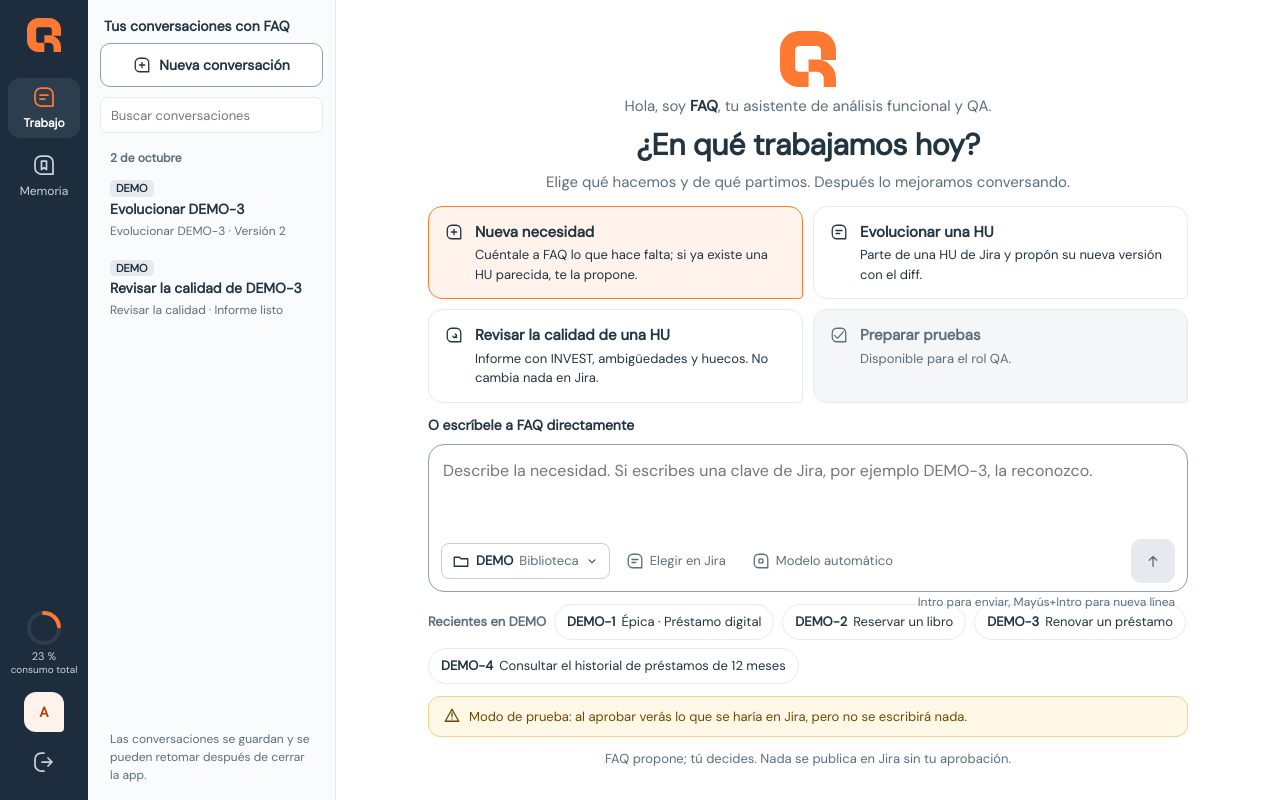
Scenario: Origen · fuentes con su carga y su «Reintentar» (auditoría) › si fallan las fuentes, «Reintentar» las vuelve a pedir y aparecen
Expected: the button with aria-label "Proyecto de Jira: DEMO" is shown, [441,543,610,579]
Type "Renovar un préstamo desde la app" into the text box.
click(808, 495); type("Renovar un préstamo desde la app")  # box [441,457,1175,533]
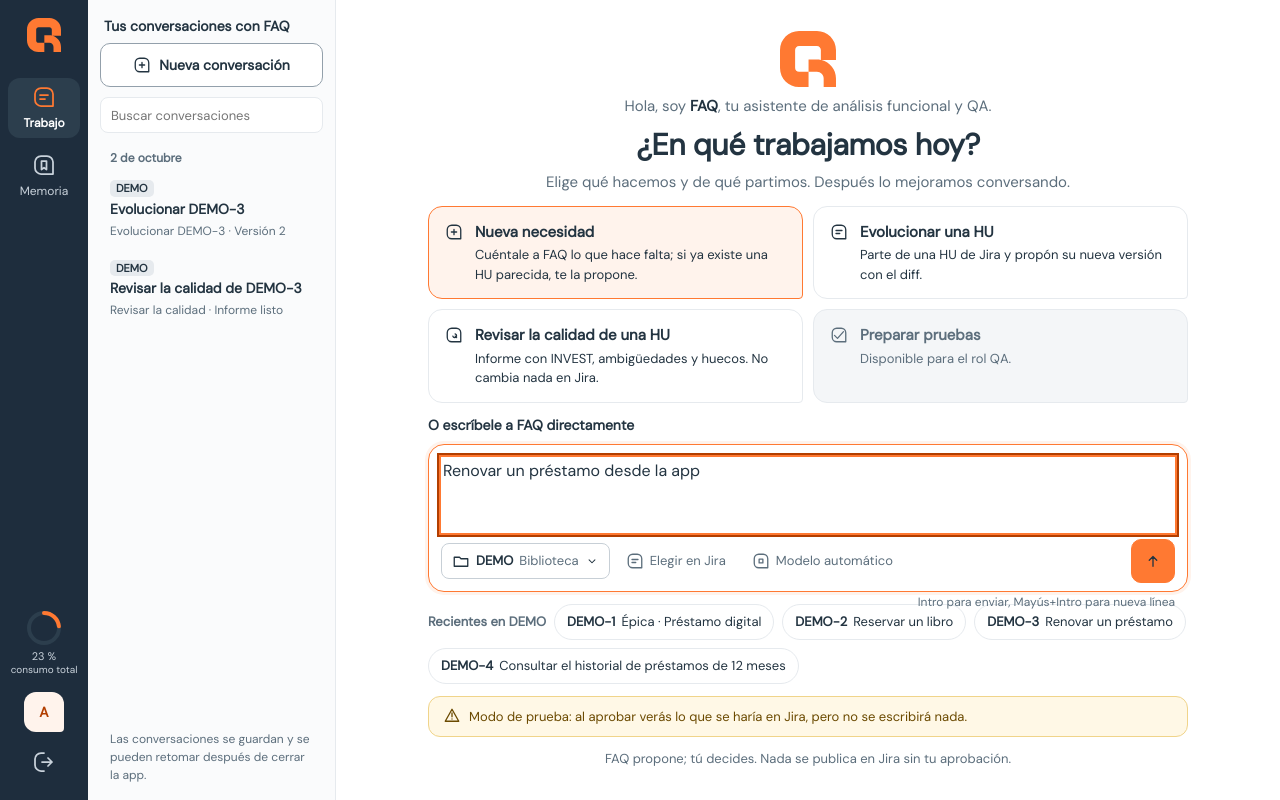
Click the button named "Continuar".
click(1153, 561)  # box [1131,539,1175,583]
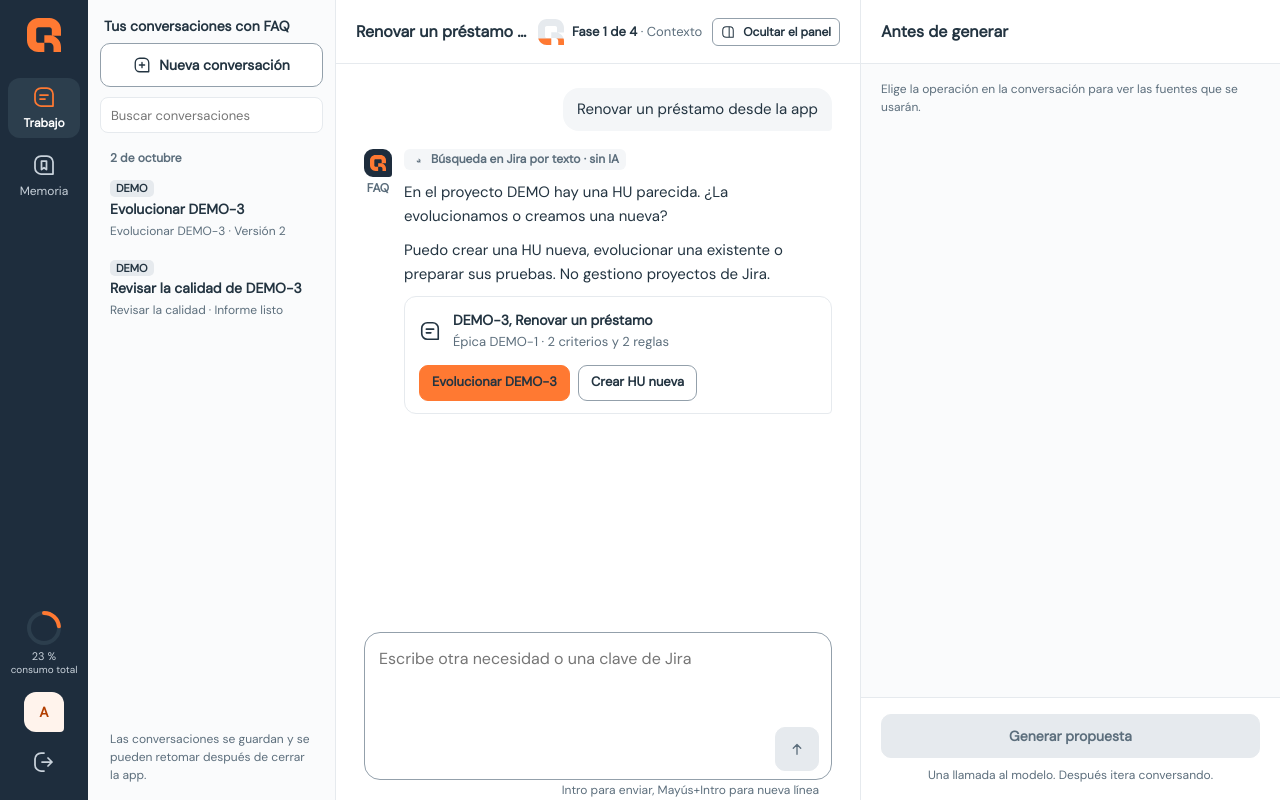
Click the button "Evolucionar DEMO-3".
click(494, 383)  # box [419,365,570,401]
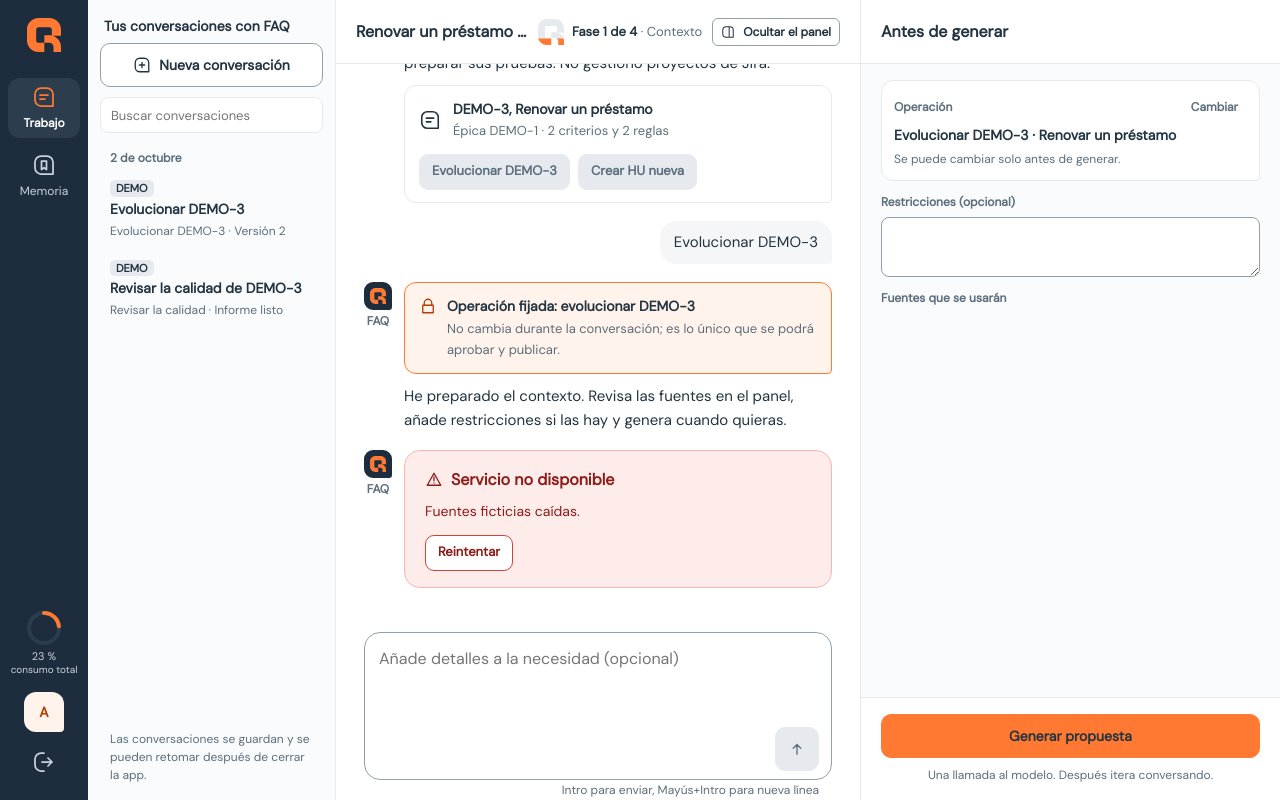
Expected: the checkbox labelled "HU de origen" is not shown
Expected: the message shows "Fuentes ficticias caídas.", [425,502,580,520]
Click the button "Reintentar".
click(469, 553)  # box [425,535,513,571]
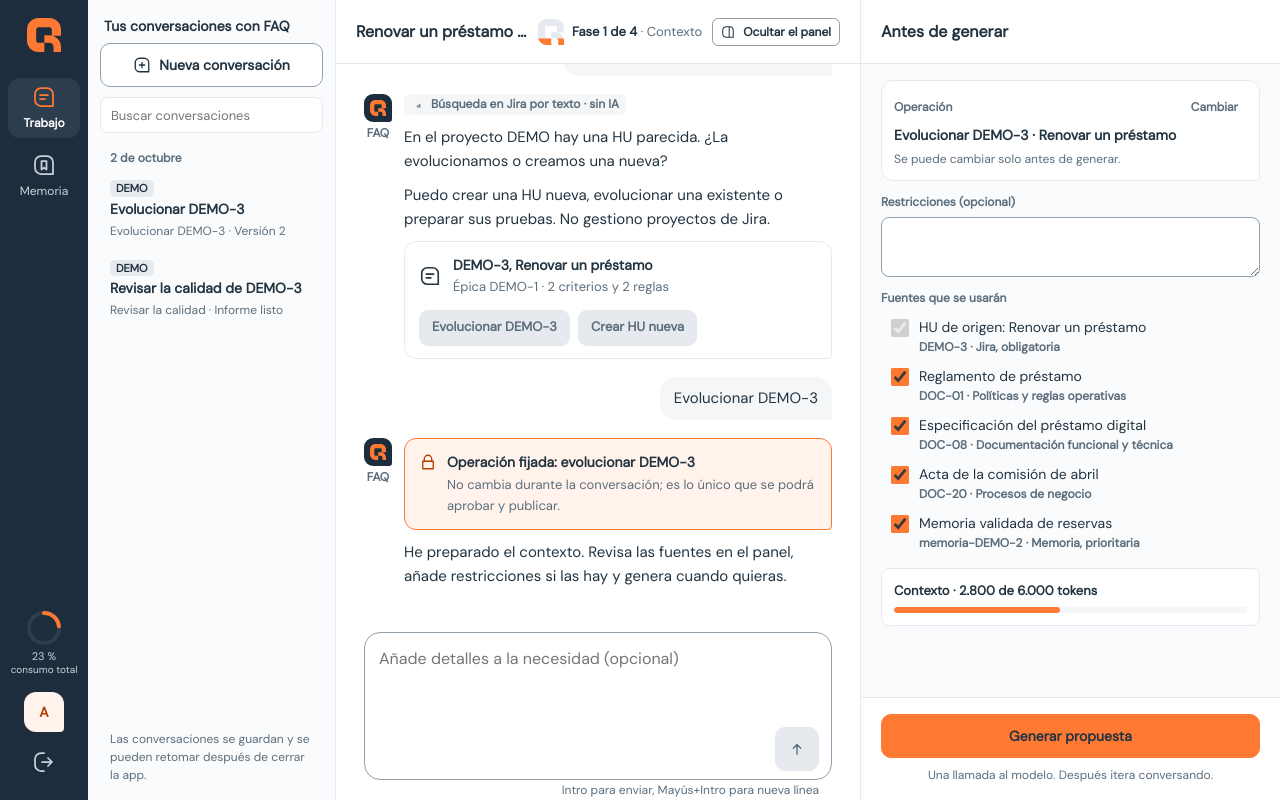
Expected: the checkbox labelled "HU de origen: Renovar un préstamo DEMO-3 · Jira, obligatoria" is shown, [891,319,909,337]
Expected: the message "Servicio no disponible Fuentes ficticias caídas. Reintentar" is gone
